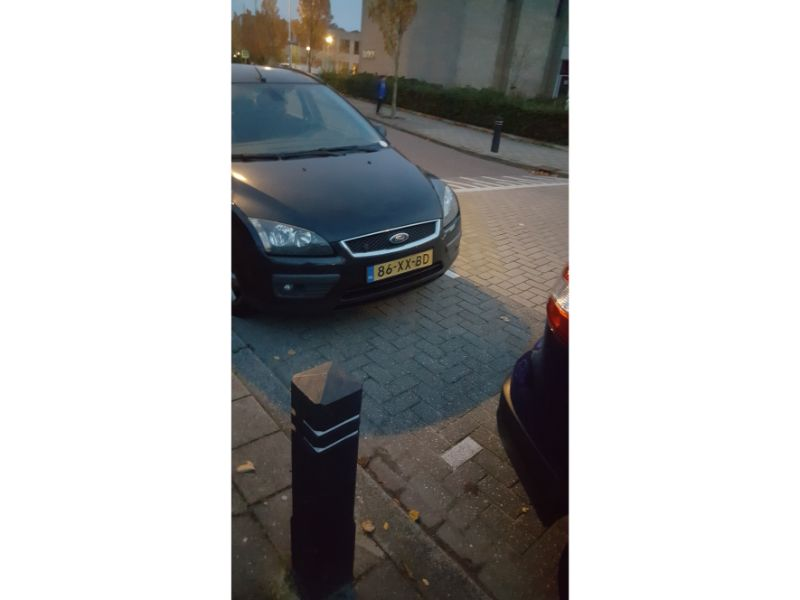kenteken: (367, 248, 434, 283)
